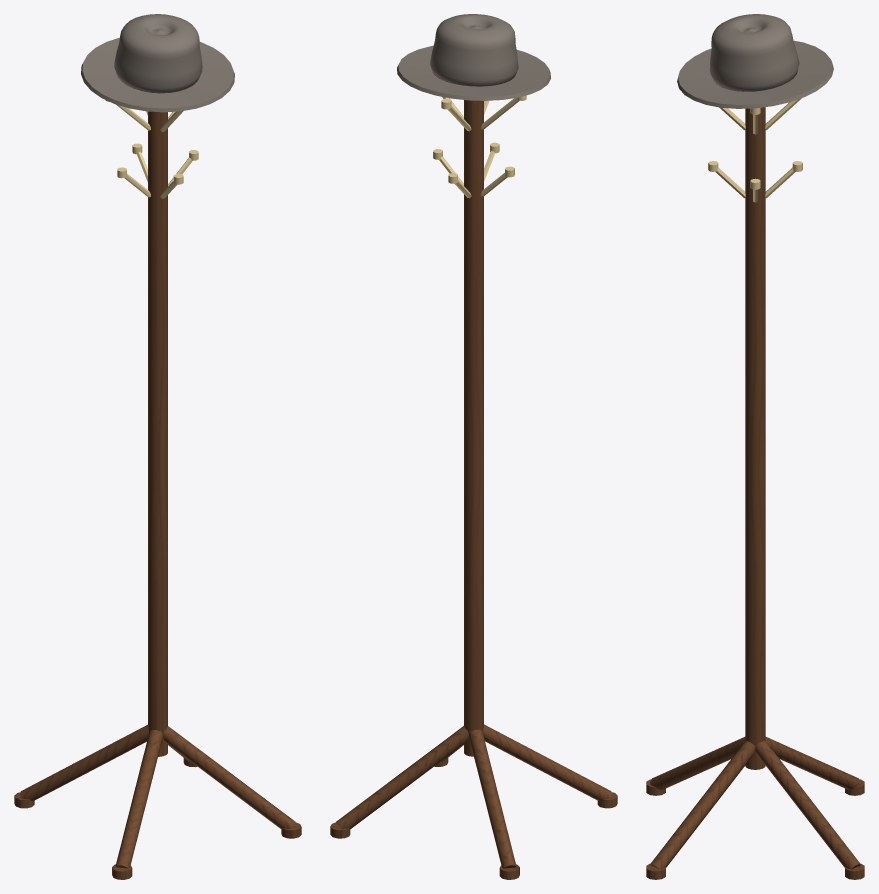
Rendered from X14_DRESS_Coat_Tree.glb.
The picture shows the model from 3 angles, left to right: view 1: azimuth 30°, elevation 25°; view 2: azimuth 150°, elevation 25°; view 3: azimuth 270°, elevation 25°; orthographic projection.
Visible parts, largest first — view 1: X14_DRESS_Coat_Tree_LOD0; view 2: X14_DRESS_Coat_Tree_LOD0; view 3: X14_DRESS_Coat_Tree_LOD0.
Boxes of the visible parts, x1=… form: X14_DRESS_Coat_Tree_LOD0: x1=14, y1=14, x2=301, y2=879; X14_DRESS_Coat_Tree_LOD0: x1=330, y1=14, x2=617, y2=879; X14_DRESS_Coat_Tree_LOD0: x1=646, y1=14, x2=864, y2=879.
Size of what is drawn, in the model's own units: 0.4683 by 1.91 by 0.4661.
4 materials, 1 textured.
